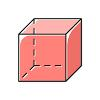cubos: (15, 15, 87, 84)
